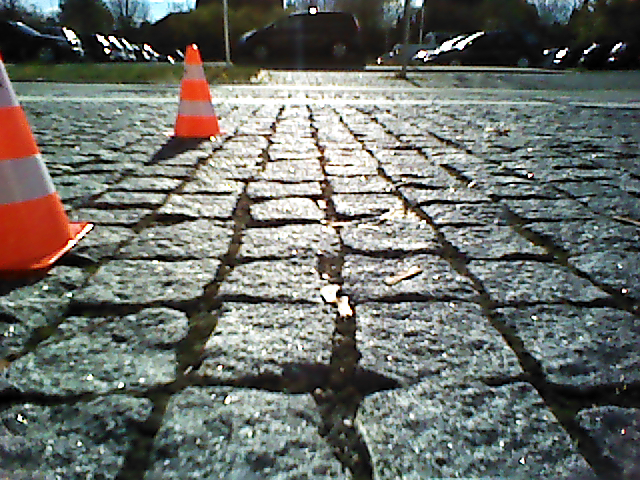orangeconesmall: (1, 45, 86, 270), (173, 44, 221, 137)
